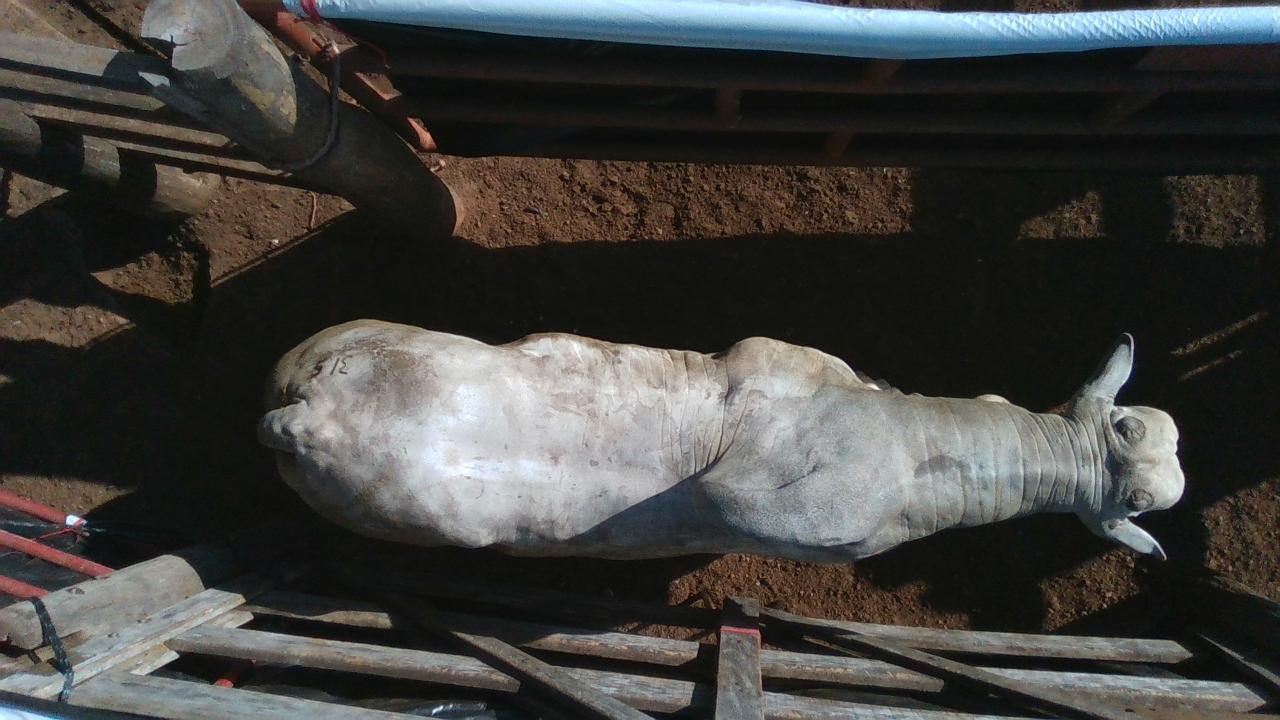cattle: (255, 315, 1186, 567)
